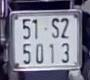0: (33, 42, 45, 65)
1: (47, 42, 56, 64), (32, 17, 40, 40)
2: (61, 14, 72, 40)
3: (60, 41, 71, 66)
5: (21, 17, 33, 40), (21, 42, 33, 65)
S: (50, 15, 60, 40)
